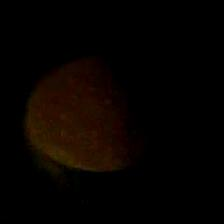fertile: (24, 54, 172, 172)
